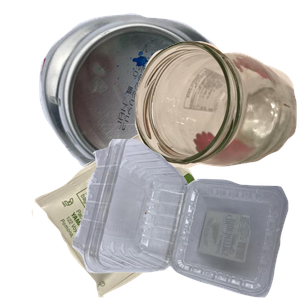glass: (132, 38, 300, 199)
metal: (37, 11, 261, 180)
plastic: (70, 139, 300, 300)
trash: (29, 124, 238, 300)
